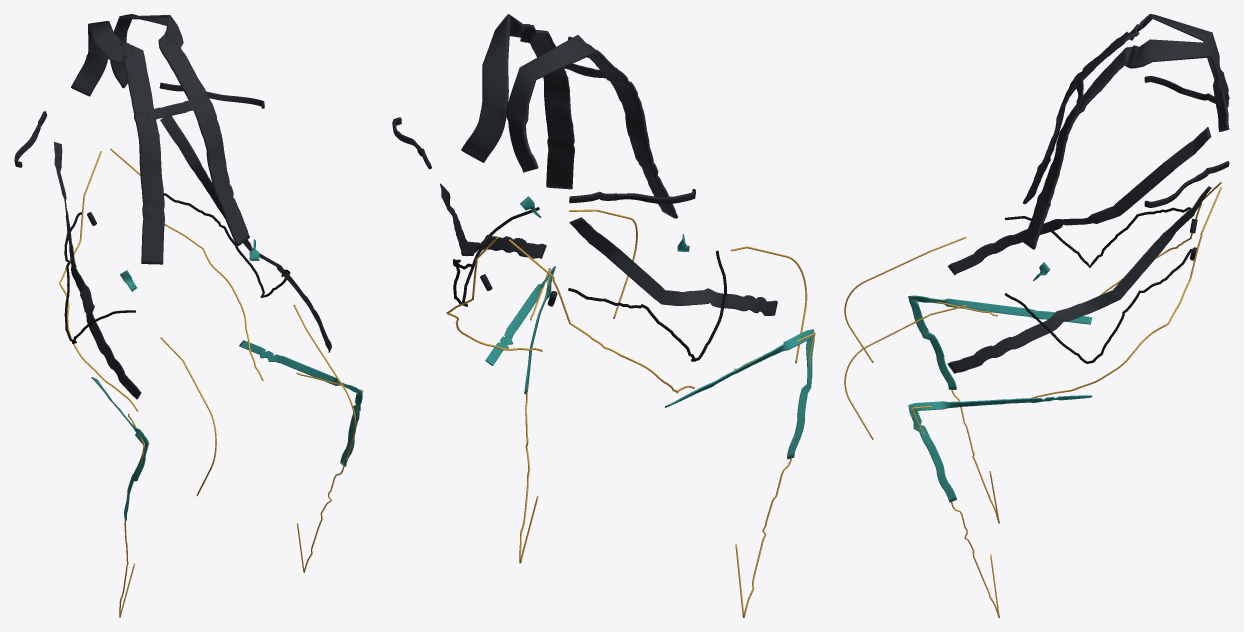
Rendered from sitka_cables_chair.glb.
3 renders of one model, left to right at view 1: azimuth 30°, elevation 25°; view 2: azimuth 150°, elevation 25°; view 3: azimuth 270°, elevation 25°, orthographic. The views are drawn at different scales.
Visible parts, largest first — view 1: harness_r, harness_l, crazycreek_r, crazycreek_l, hamstring_band_l, hamstring_band_r, bowden_r, t3_tendon_r, sternum_strap, bowden_l, m5_lever_l, t3_tendon_l; view 2: harness_l, harness_r, crazycreek_r, hamstring_band_r, crazycreek_l, hamstring_band_l, m5_lever_r, bowden_r, t3_tendon_r, bowden_l; view 3: harness_l, crazycreek_l, crazycreek_r, harness_r, hamstring_band_r, hamstring_band_l, bowden_l, t3_tendon_l, bowden_r, m5_lever_l, m5_lever_r.
Boxes of the visible parts, x1,y1,x2,y2 form: harness_r: [71, 21, 164, 264]; harness_l: [110, 14, 249, 246]; crazycreek_r: [54, 142, 141, 399]; crazycreek_l: [160, 116, 331, 352]; hamstring_band_l: [239, 340, 362, 466]; hamstring_band_r: [91, 377, 149, 520]; bowden_r: [64, 212, 135, 343]; t3_tendon_r: [59, 151, 138, 411]; sternum_strap: [146, 98, 200, 120]; bowden_l: [163, 193, 290, 297]; m5_lever_l: [159, 82, 264, 108]; t3_tendon_l: [110, 148, 263, 380]; harness_l: [461, 14, 574, 189]; harness_r: [506, 35, 677, 218]; crazycreek_r: [569, 217, 777, 315]; hamstring_band_r: [665, 329, 814, 459]; crazycreek_l: [440, 183, 546, 258]; hamstring_band_l: [485, 266, 555, 394]; m5_lever_r: [569, 189, 695, 203]; bowden_r: [568, 250, 726, 361]; t3_tendon_r: [508, 239, 694, 393]; bowden_l: [453, 207, 539, 306]; harness_l: [1023, 39, 1229, 249]; crazycreek_l: [947, 186, 1211, 373]; crazycreek_r: [947, 127, 1211, 275]; harness_r: [1023, 14, 1229, 204]; hamstring_band_r: [908, 295, 1092, 389]; hamstring_band_l: [908, 395, 1092, 502]; bowden_l: [1004, 249, 1192, 363]; t3_tendon_l: [1031, 187, 1221, 397]; bowden_r: [1004, 207, 1191, 267]; m5_lever_l: [1144, 161, 1229, 207]; m5_lever_r: [1144, 76, 1228, 107].
Size of the model in its own units: 0.5897 by 1.18 by 0.7534.
